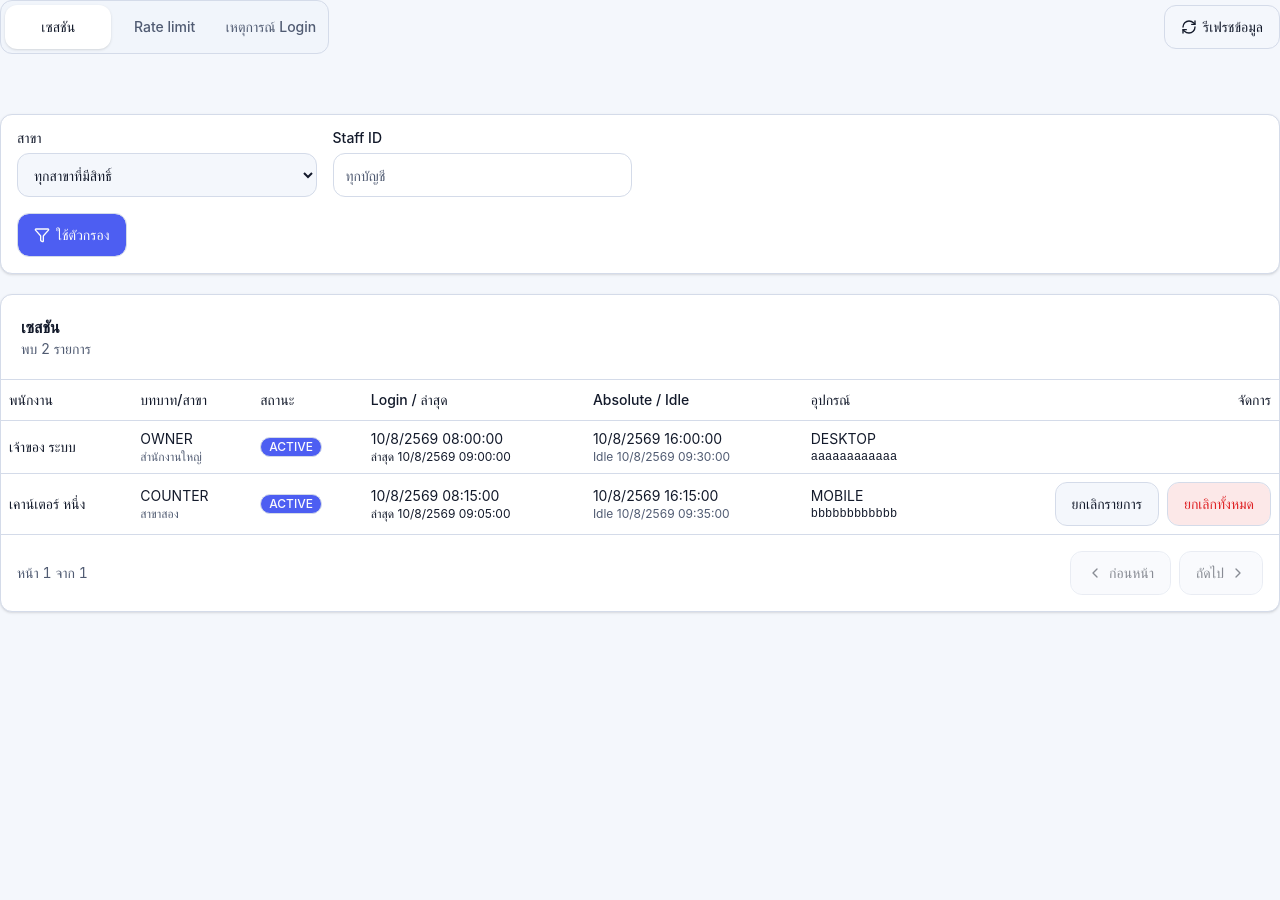
Test: SecurityConsole › แสดง action เฉพาะ row ที่จัดการได้ และ dialog ระบุเป้าหมาย/ผลกระทบพร้อมคืน focus
The width and height of the screenshot is (1280, 900).
Later steps or results of the test are not shown.
Click the button with aria-label "ยกเลิกเซสชันของ เคาน์เตอร์ หนึ่ง" at (1107, 504), box [1055, 482, 1159, 526]
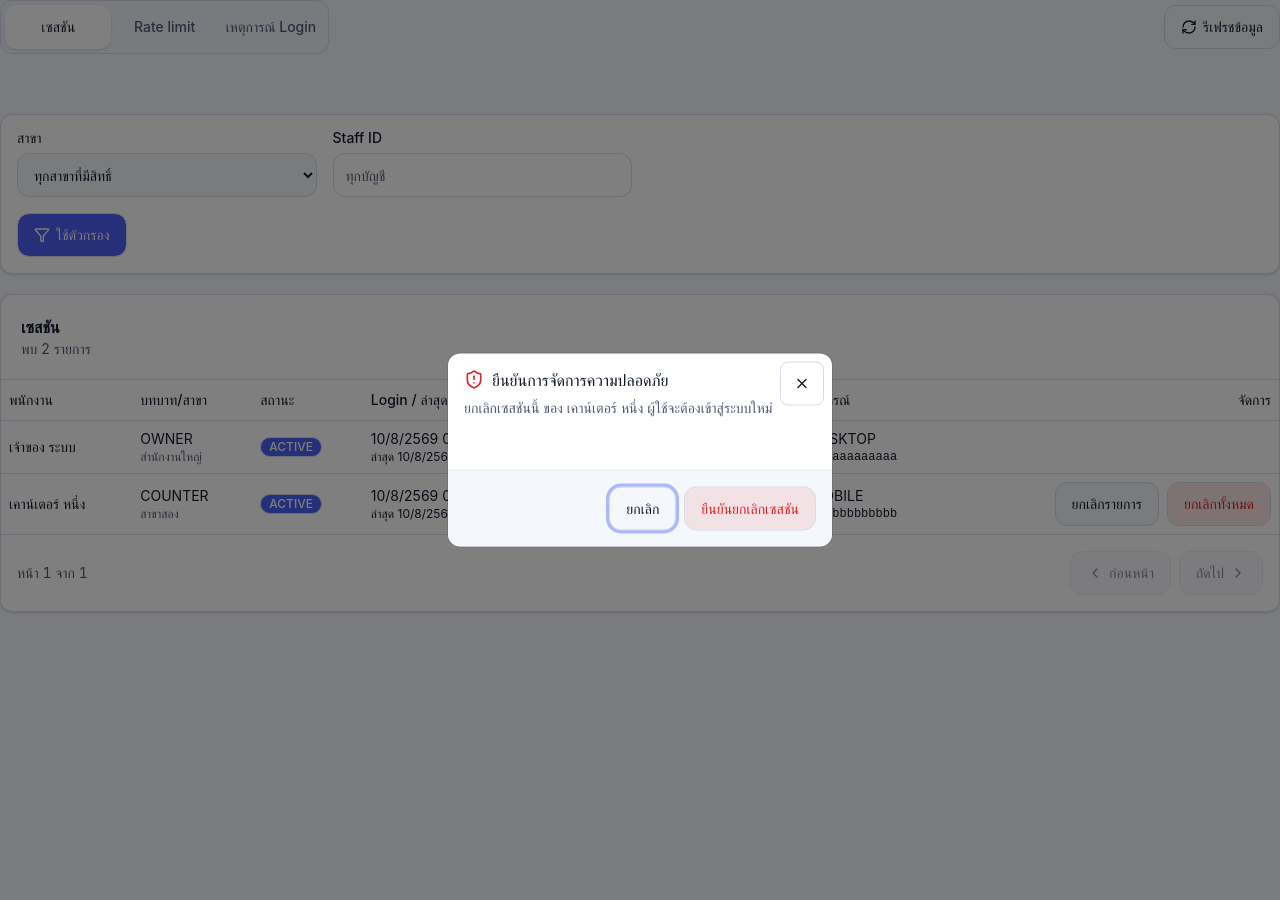
Result: the dialog shows "เคาน์เตอร์ หนึ่ง" at [464, 398, 772, 416]
Result: the dialog shows "ต้องเข้าสู่ระบบใหม่" at [464, 398, 772, 416]
